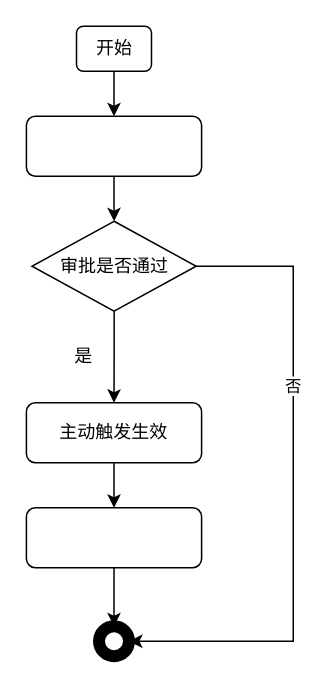
Image size: 332x689. Some labels were removed from this diagram. Each missing label, with the centre of its shape:
"发起AB实验变更申请" goes at (113,145).
"点击下发新配置" goes at (113,537).
